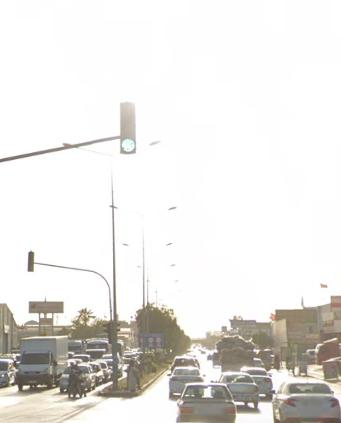greenlight: (119, 104, 137, 156)
